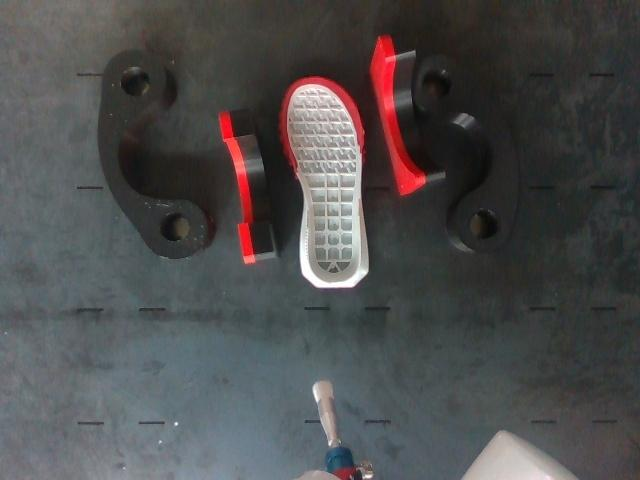shoes: (283, 79, 362, 284)
